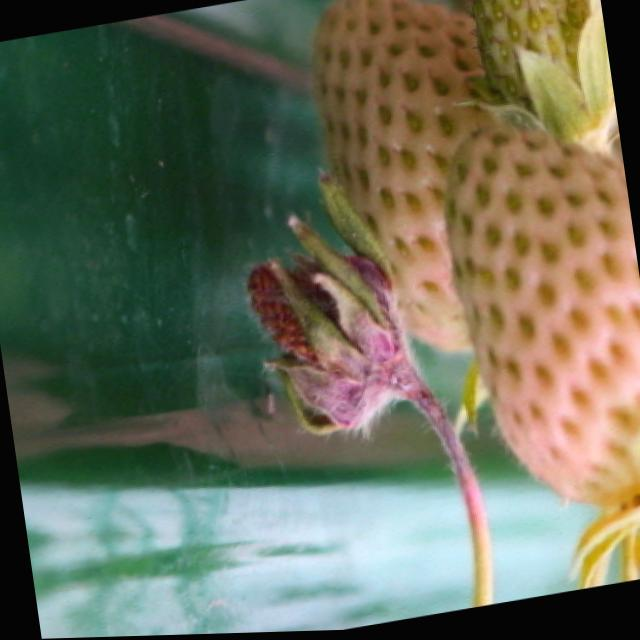Gray Mold: (242, 167, 462, 455)
